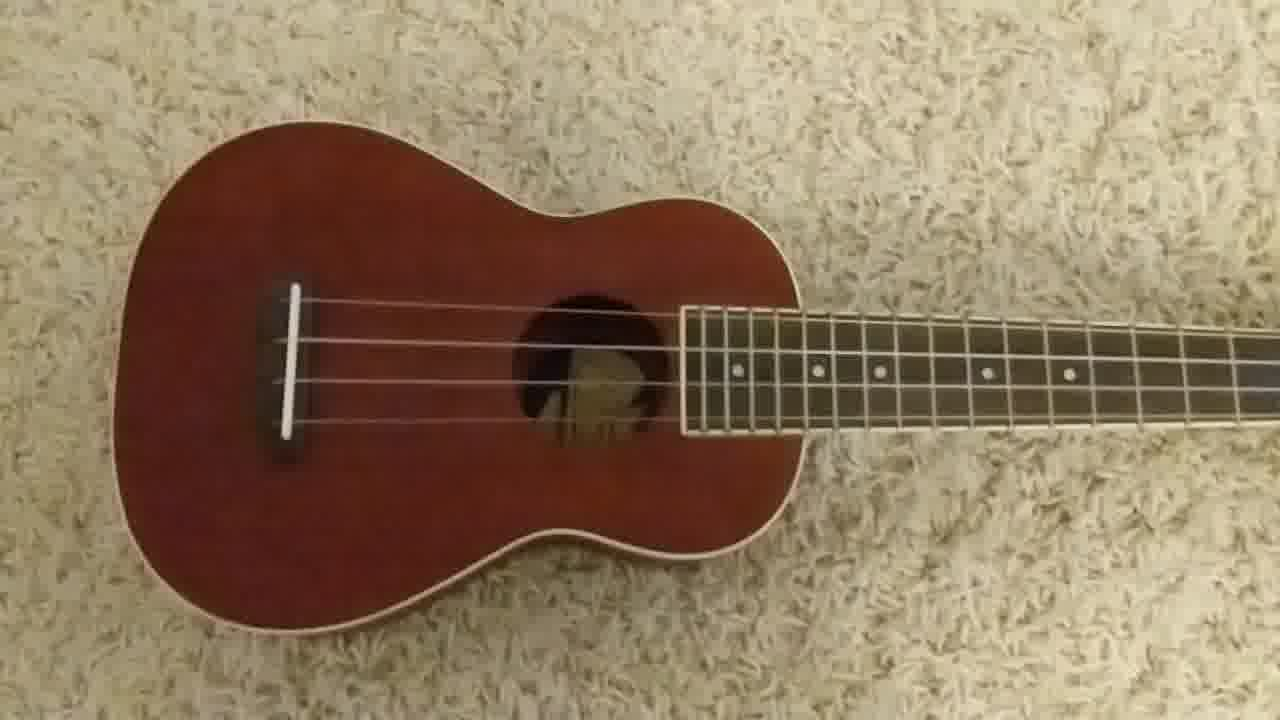Body: (109, 119, 815, 644)
Bridge: (253, 276, 320, 454)
